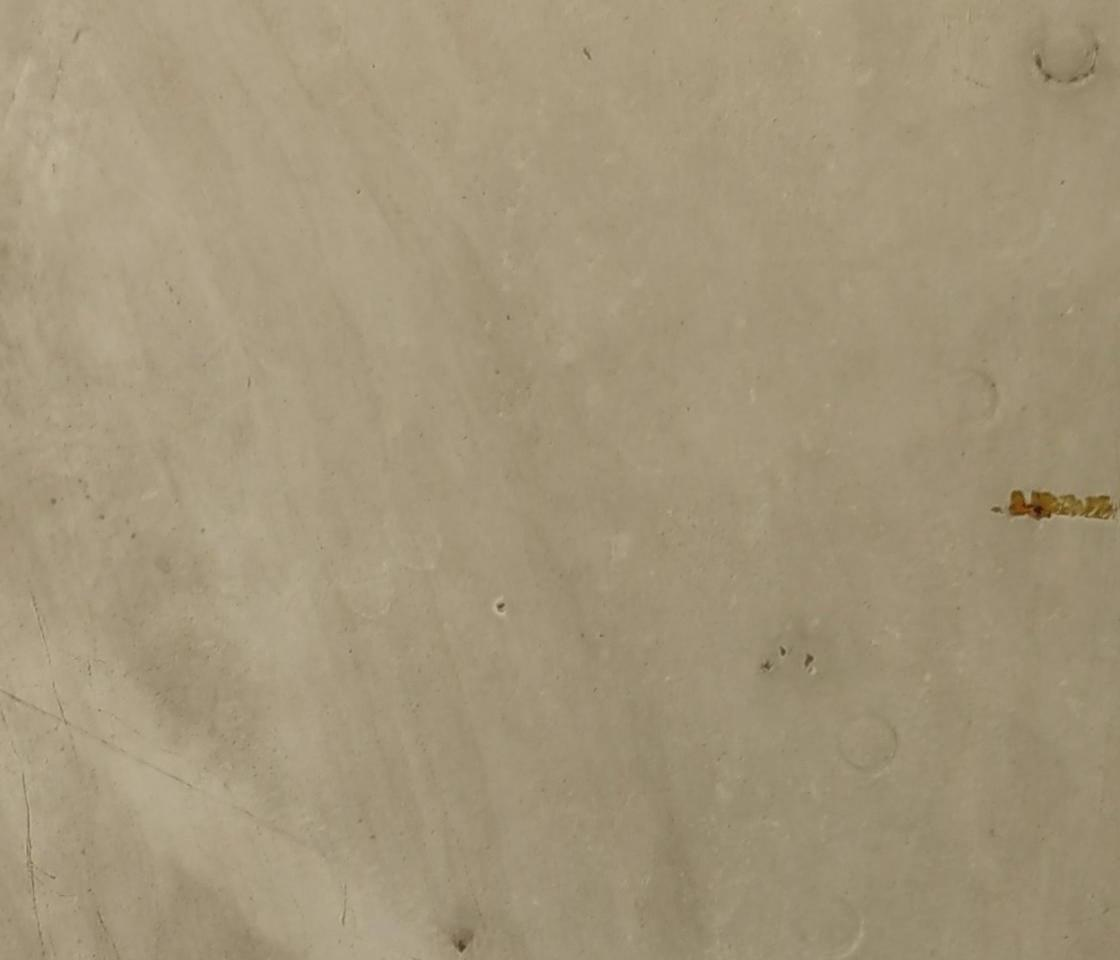rust: (999, 482, 1062, 526)
